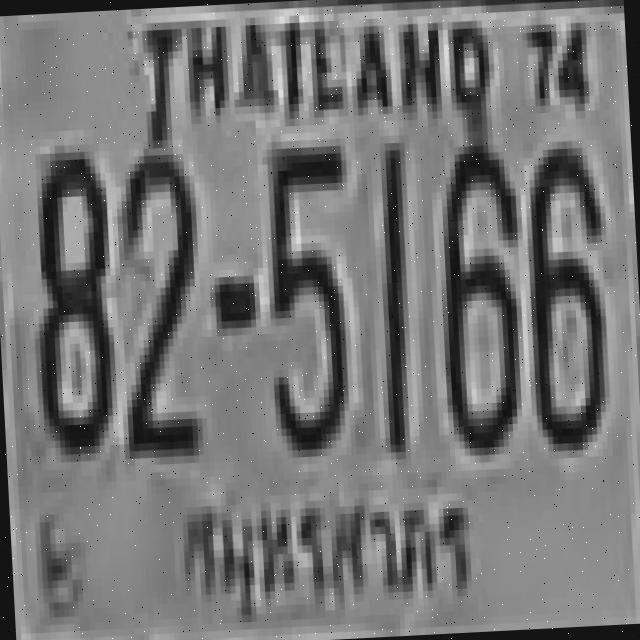2: (114, 153, 208, 458)
5: (260, 144, 360, 457)
6: (434, 143, 528, 456), (522, 146, 612, 450)
8: (28, 151, 118, 456)
SamutSakhon: (165, 473, 488, 635)
